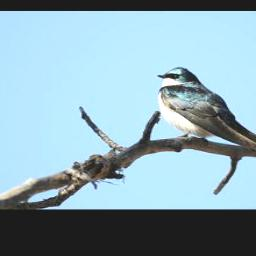Swallow: (155, 65, 256, 152)
